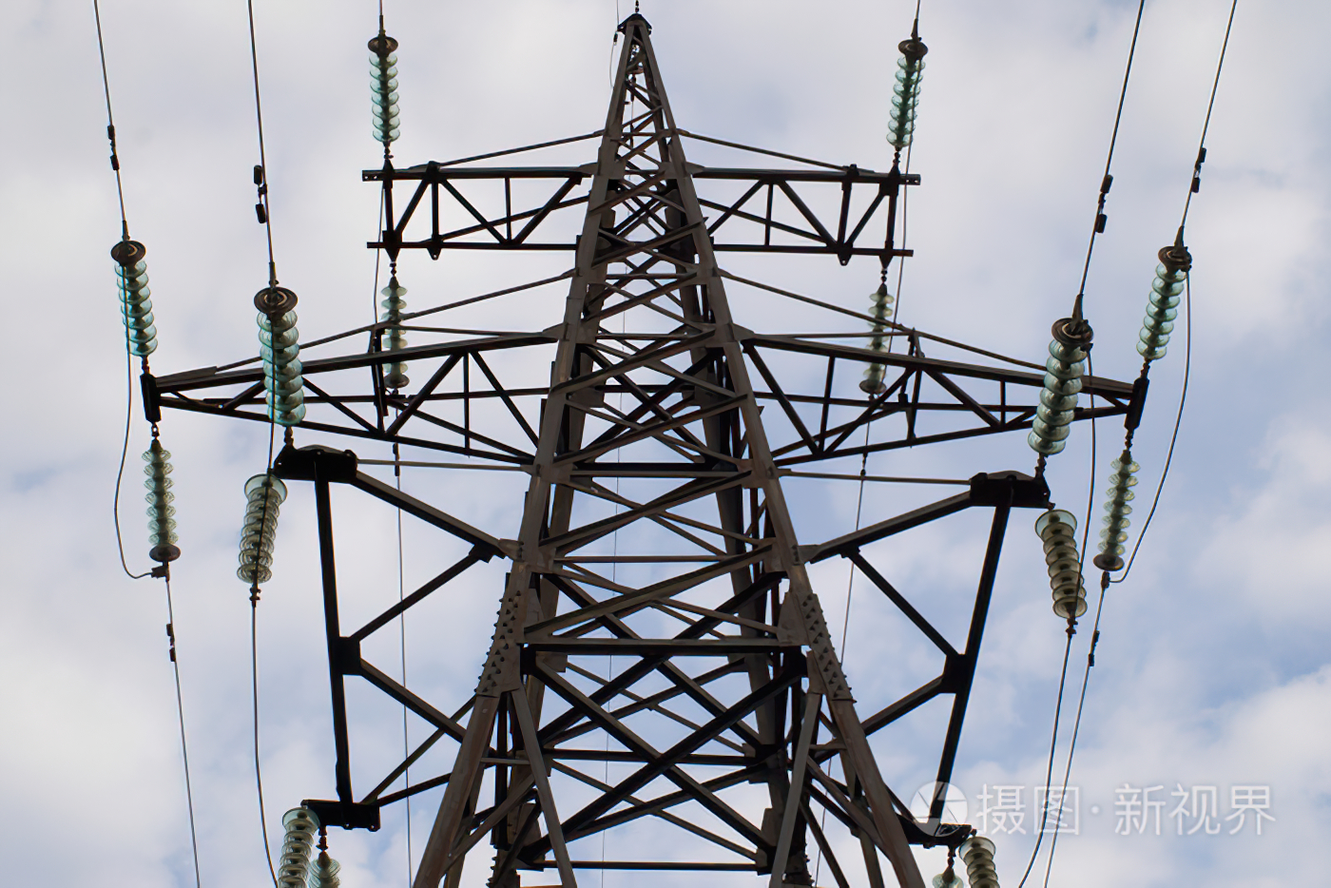insulator: (1029, 338, 1095, 455), (254, 306, 308, 421), (1034, 515, 1090, 620), (111, 251, 160, 357), (1139, 263, 1190, 359), (235, 484, 284, 582), (1097, 456, 1140, 566), (376, 285, 416, 384), (278, 806, 326, 888), (141, 447, 179, 550), (886, 52, 926, 145), (367, 45, 403, 143), (859, 284, 893, 382), (958, 840, 999, 888), (311, 859, 340, 888)
